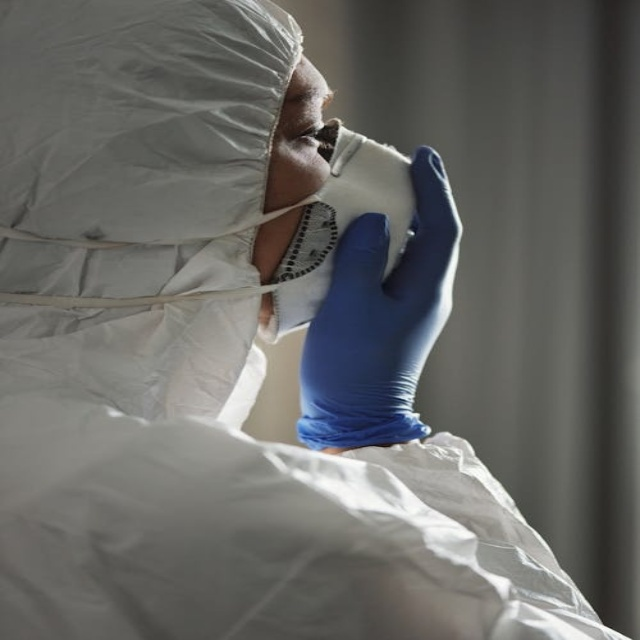Guantes: (295, 146, 463, 451)
Mascara: (196, 113, 457, 346)
Sin_gafas: (268, 85, 346, 150)
